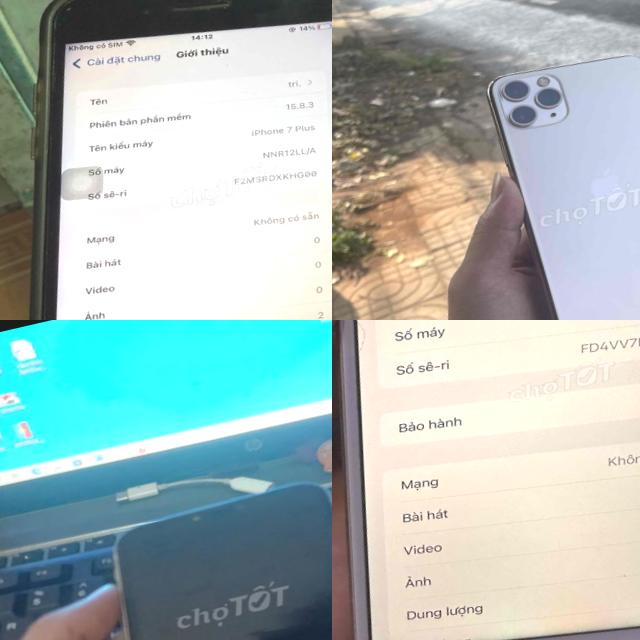scratch: (131, 0, 241, 32), (37, 0, 89, 29), (344, 320, 370, 357)
